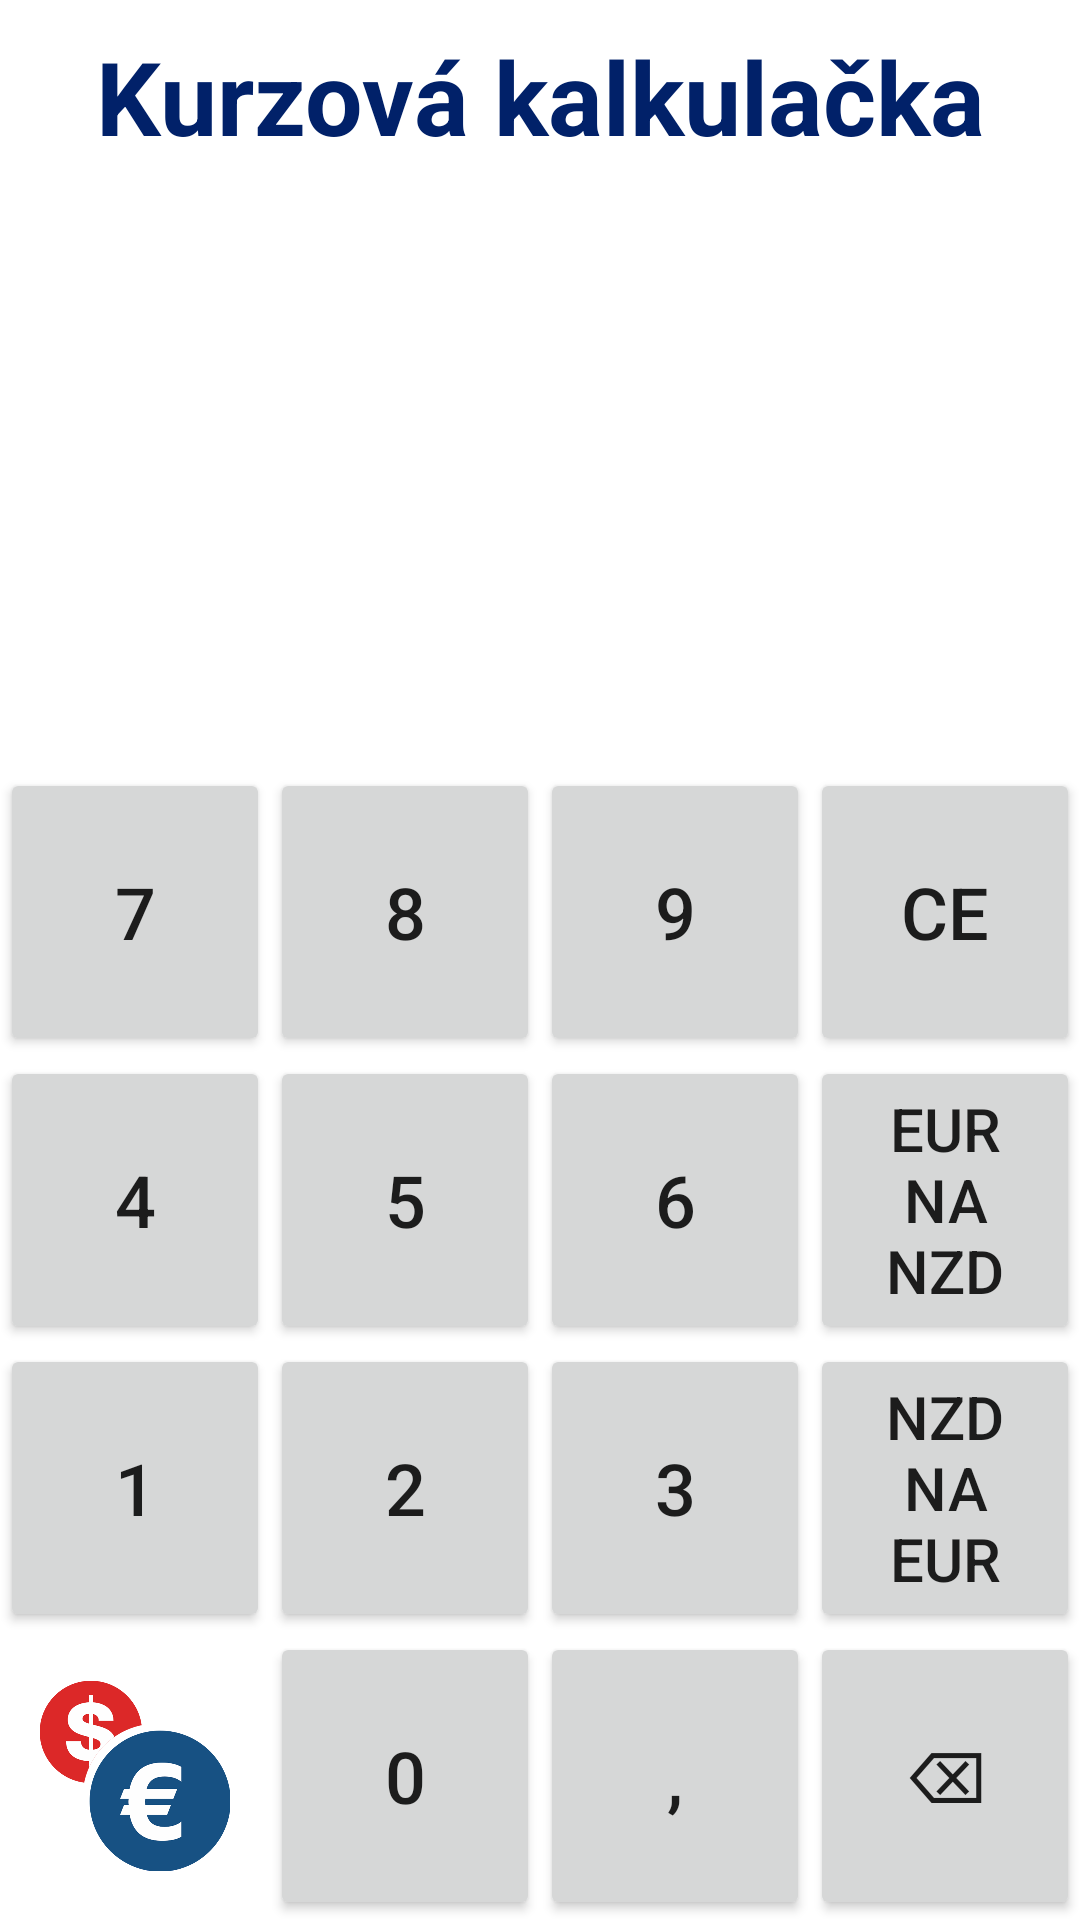

Named icons in this screenshot (1080x1920) and their bounding boxes, (x1, y1, x2, y2):
currencies: (40, 1681, 230, 1871)
